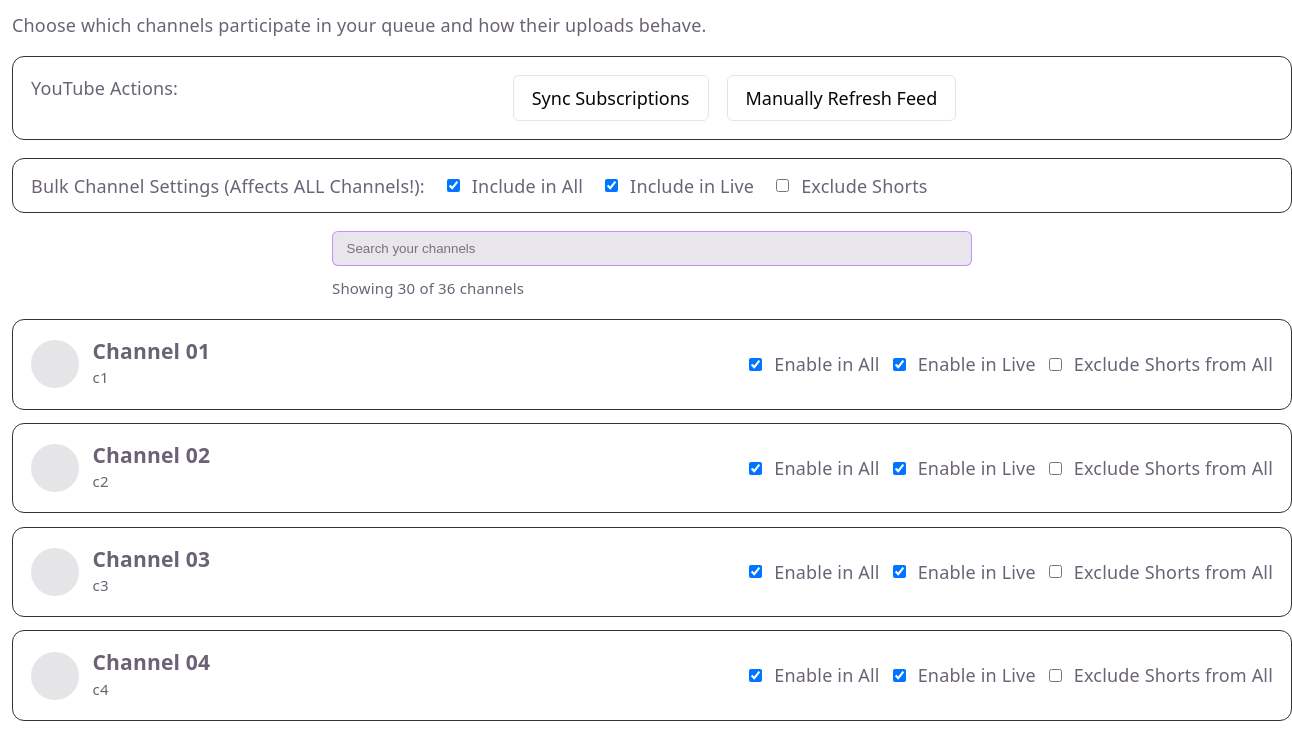
Test: ChannelsSettingsPage › shows a distinct empty state when the search matches nothing
The image size is (1292, 732).
Expected: the heading "Channel 01" is shown, 92,338 -> 210,364
Step 1. Type "nonexistent-xyz" into the field with placeholder "Search your channels" → (652, 249), box 332,231 -> 972,266
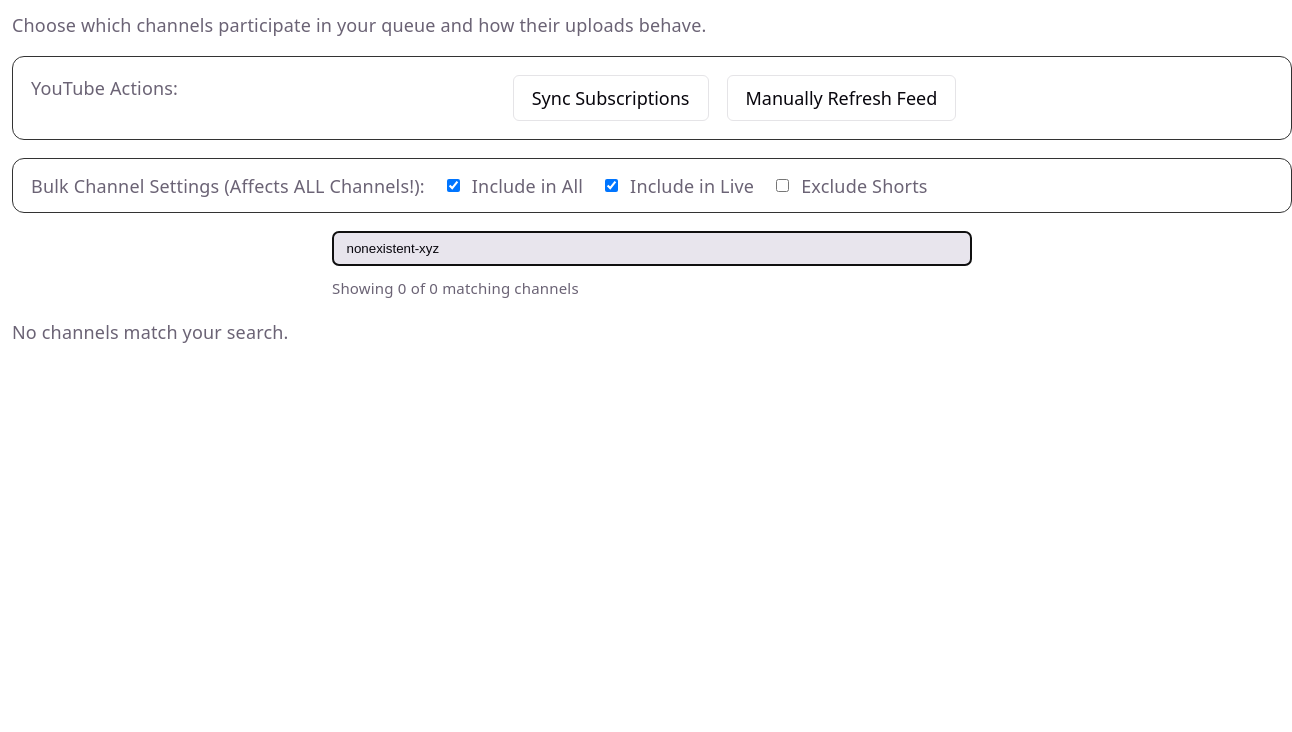
Expected: the text "No channels match your search." is shown, 12,320 -> 289,344
